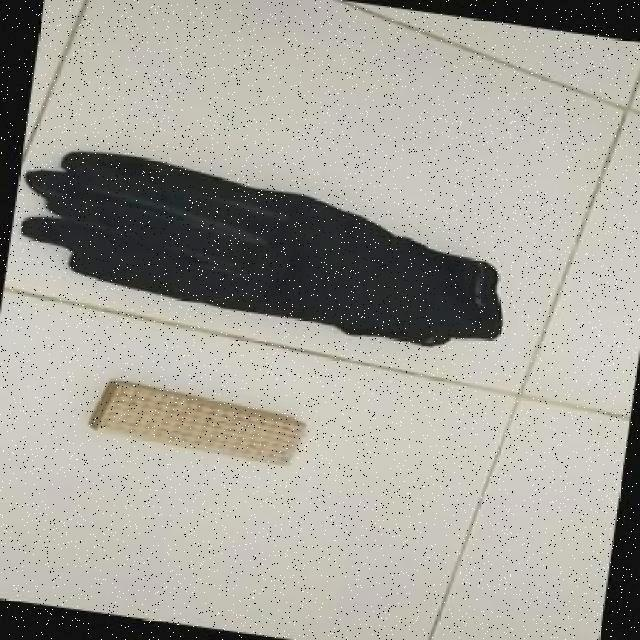Guantes: (20, 149, 503, 346)
